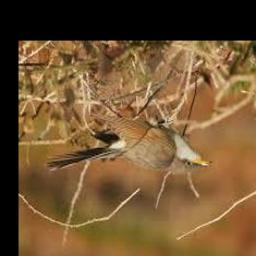Cuckoo: (48, 117, 215, 173)
